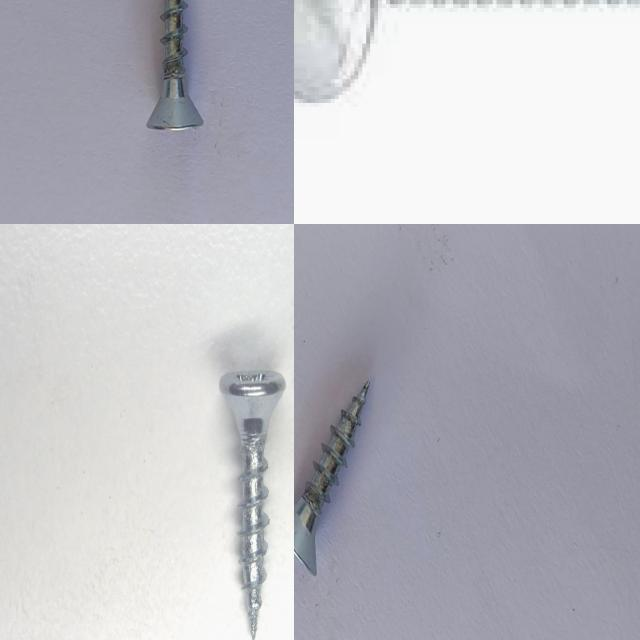Screw: (217, 366, 286, 640), (294, 381, 369, 575), (147, 0, 204, 129)
